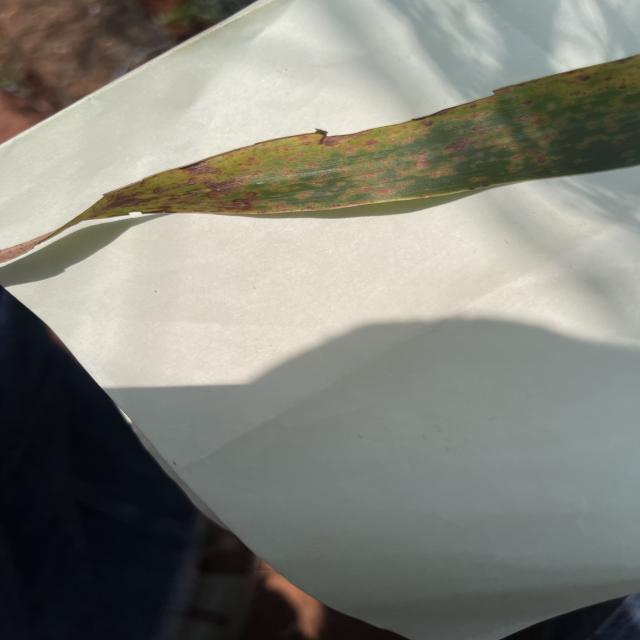millet_rust: (0, 50, 640, 269)
